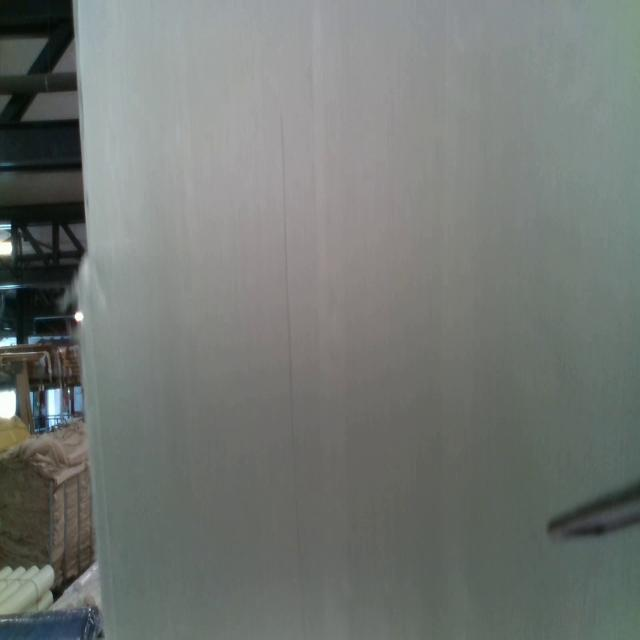crease: (279, 112, 307, 637)
